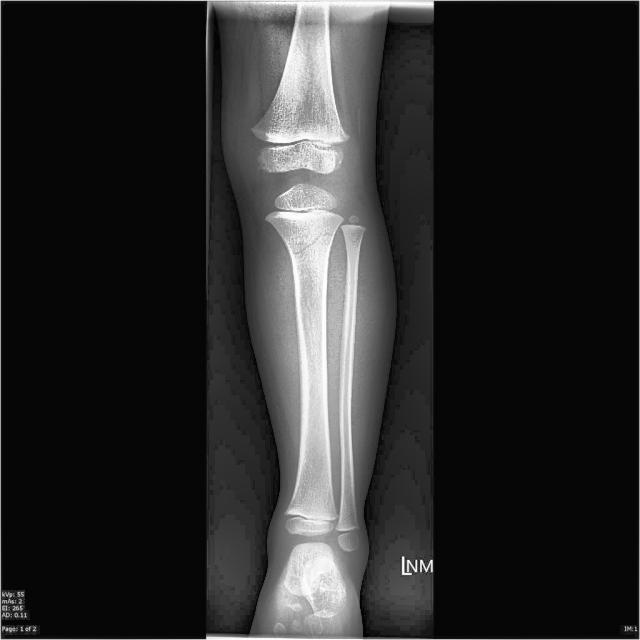line: (292, 232, 333, 256)
